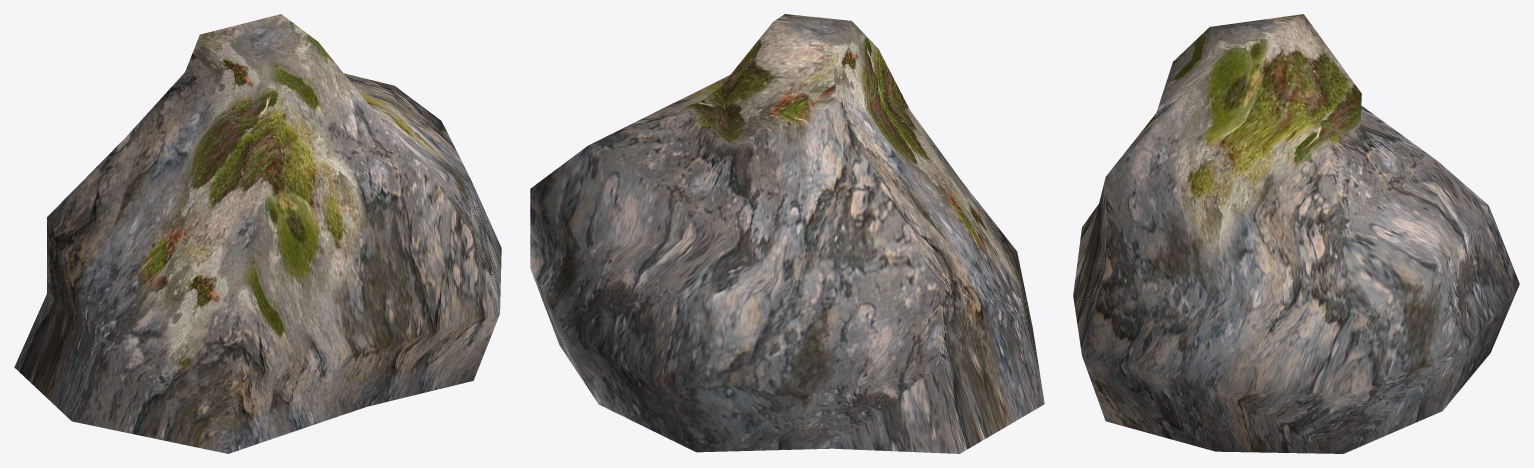
Rendered from rock.fbx.
3 renders of one model, left to right at view 1: azimuth 30°, elevation 25°; view 2: azimuth 150°, elevation 25°; view 3: azimuth 270°, elevation 25°, orthographic. The views are drawn at different scales.
Visible parts, largest first — view 1: Cube; view 2: Cube; view 3: Cube.
Part boxes in pixels (box(x1,y1,x2,y2)): Cube: box(14, 14, 501, 453); Cube: box(530, 14, 1044, 453); Cube: box(1073, 14, 1519, 453).
Size of the model in its own units: 206 by 150 by 182.
